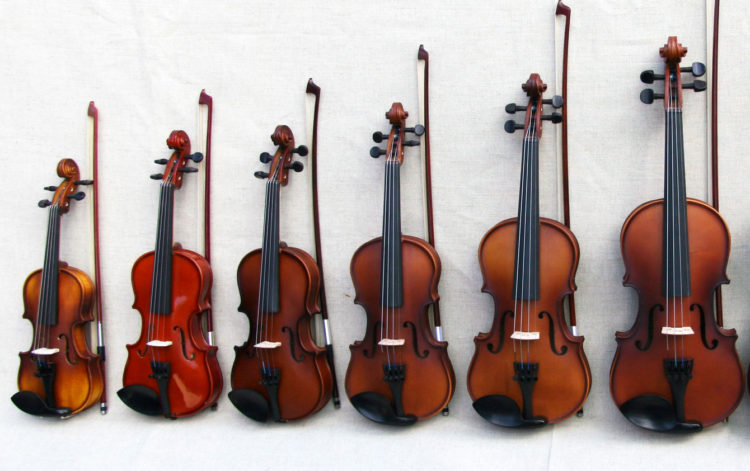Fiddle: (612, 28, 750, 439), (469, 28, 604, 432), (350, 46, 454, 428), (10, 96, 120, 430), (246, 91, 346, 431), (143, 95, 229, 430)
